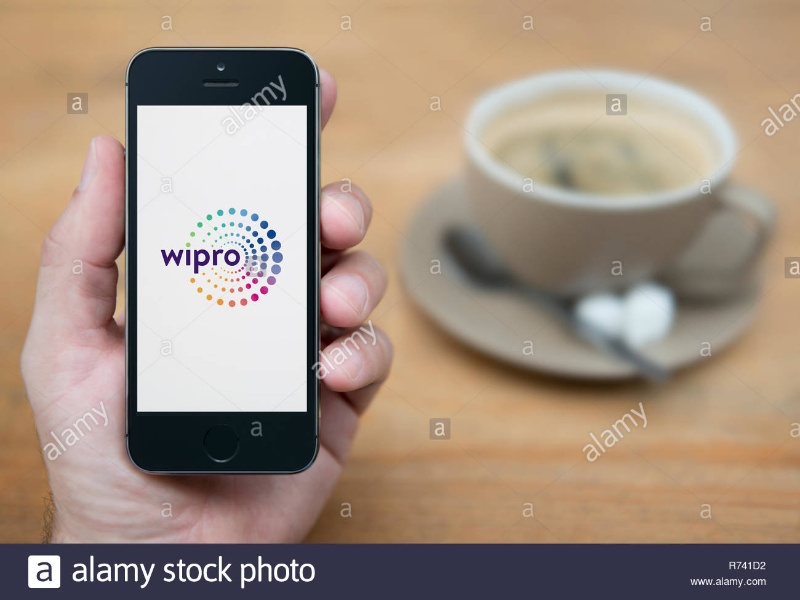wipro: (153, 196, 284, 327)
